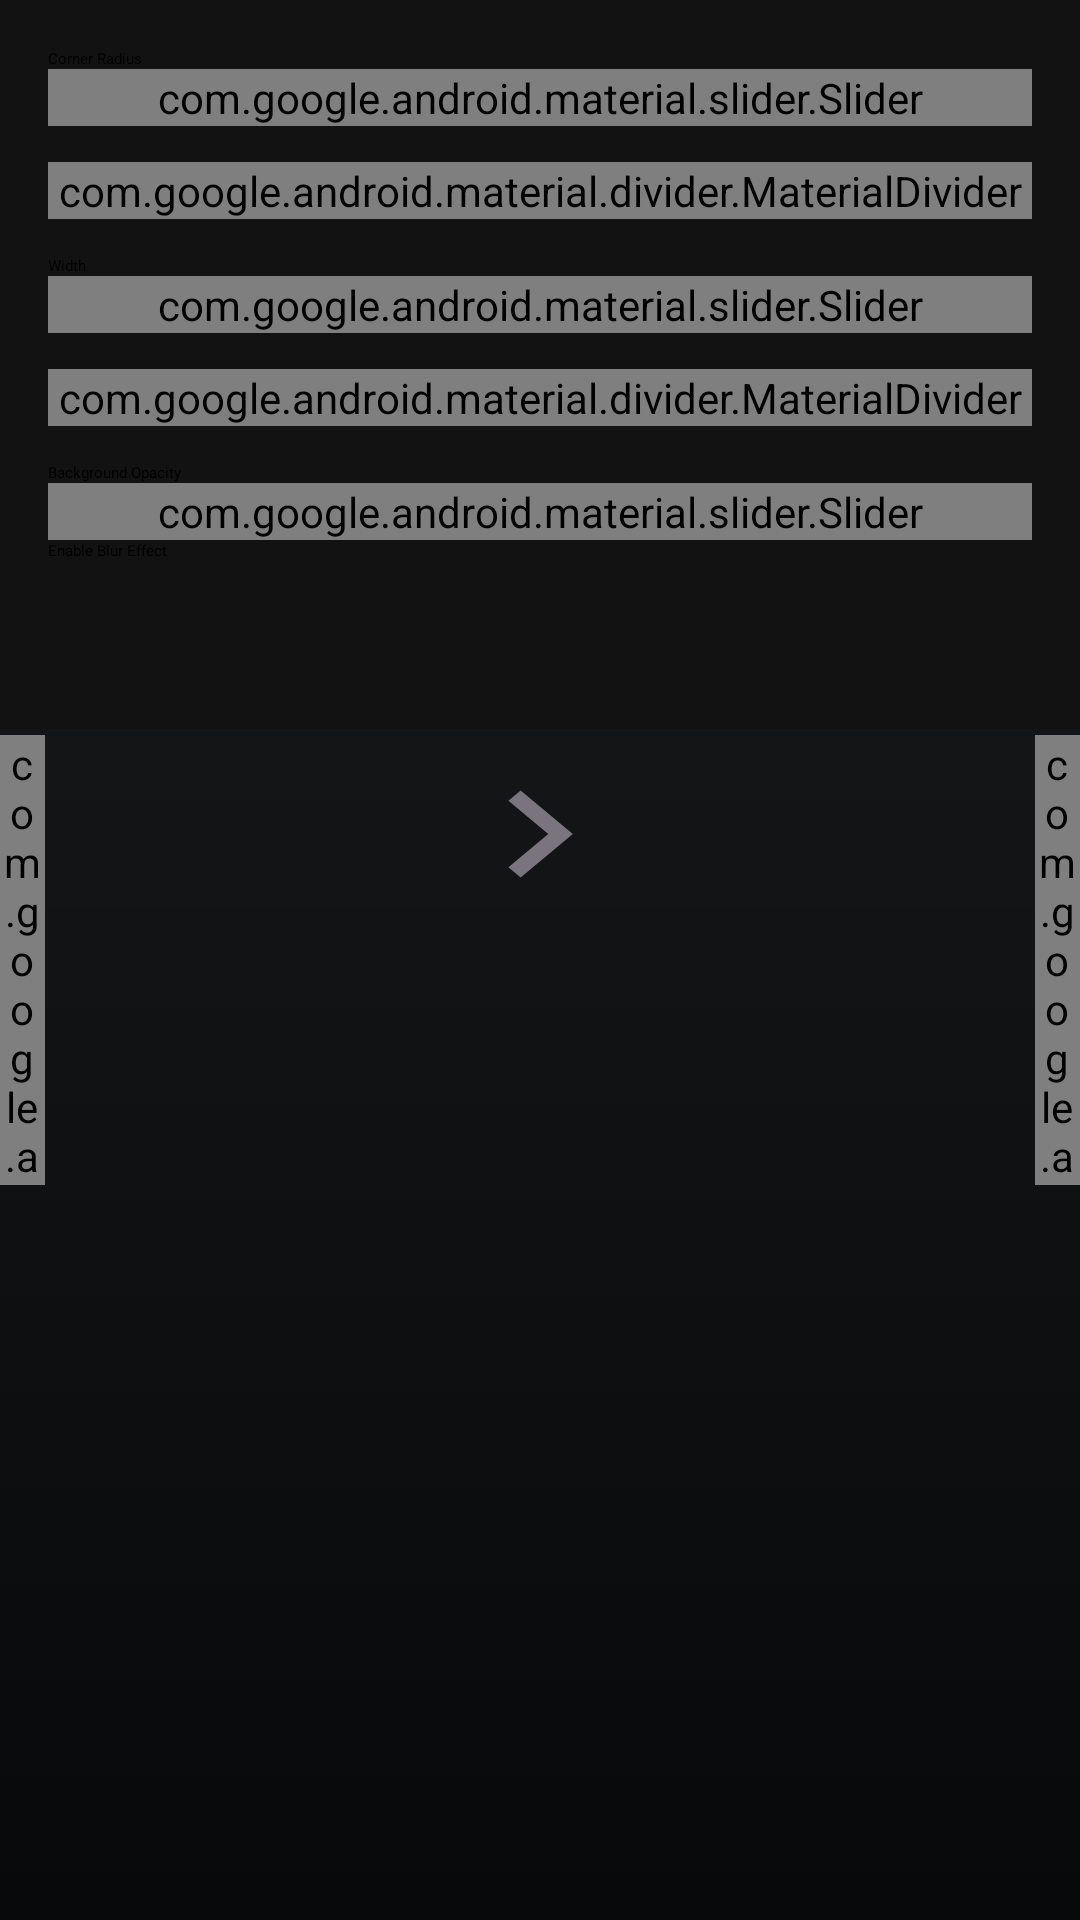

Named icons in this screenshot (1080 x 1920) and their centers, (x=x, y=y):
arrow right: (x=540, y=834)
